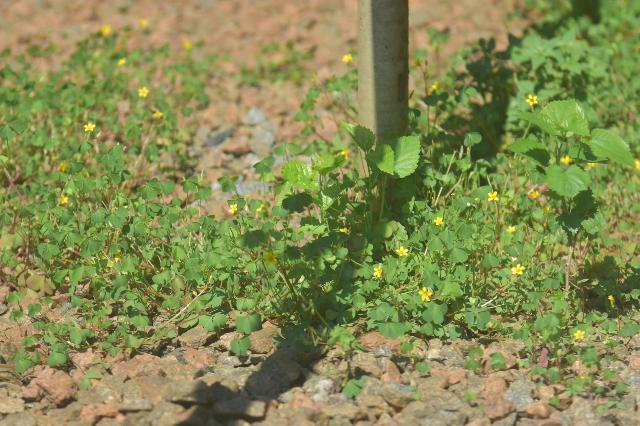MalezaMontesDelPlata: (207, 130, 422, 346), (39, 119, 205, 354), (410, 51, 514, 336), (509, 90, 639, 298), (509, 4, 640, 106)
